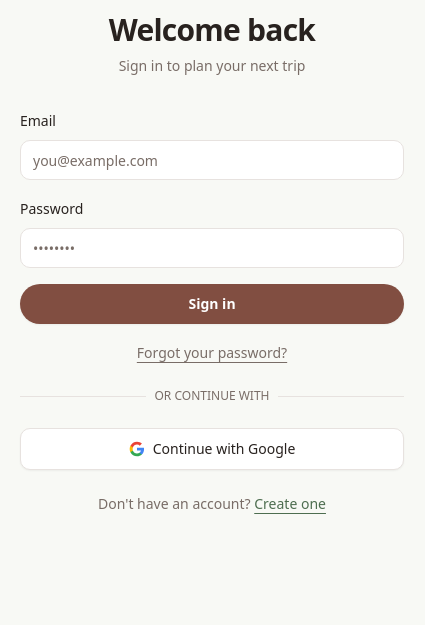
Test: LoginPage — Sign up mode › shows error when passwords do not match
Click the button "Create one".
click(290, 504)  # box left=254, top=494, right=326, bottom=514
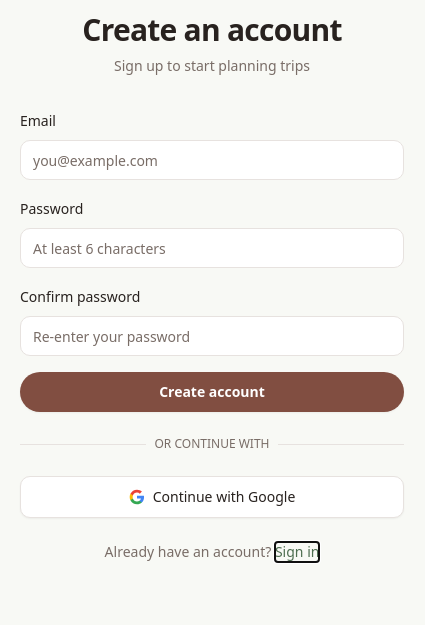
Type "new@test.com" into the field labelled "Email".
click(212, 160); type("new@test.com")  # box left=20, top=140, right=404, bottom=180
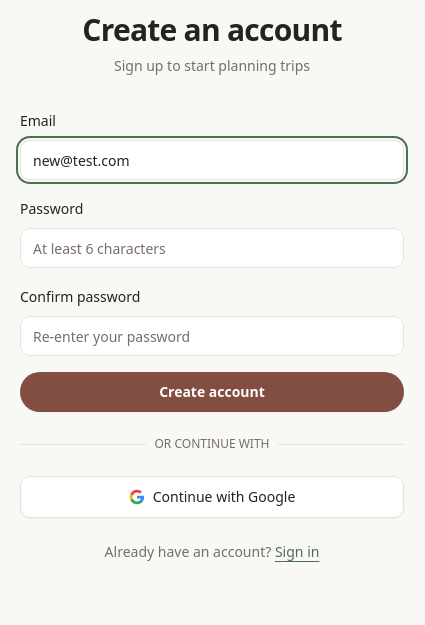
Type "password123" into the password field labelled "Password".
click(212, 248); type("password123")  # box left=20, top=228, right=404, bottom=268
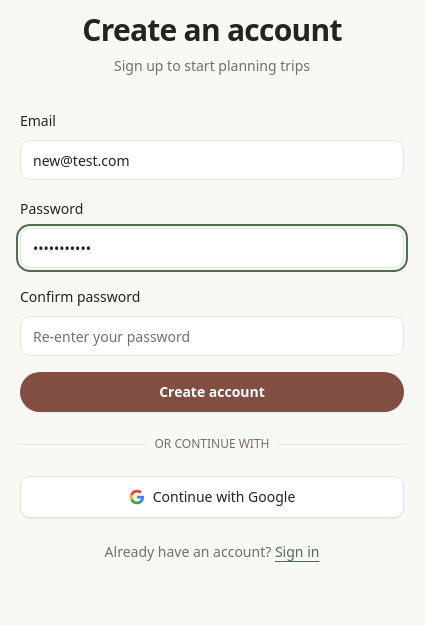
Type "different456" into the password field labelled "Confirm password".
click(212, 336); type("different456")  # box left=20, top=316, right=404, bottom=356
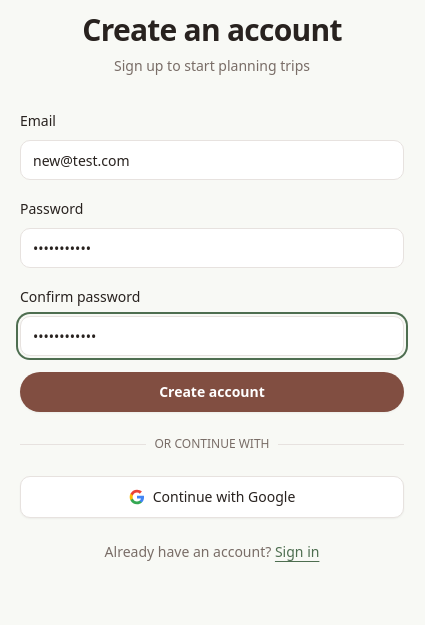
Click the button "Create account".
click(212, 392)  # box left=20, top=372, right=404, bottom=412
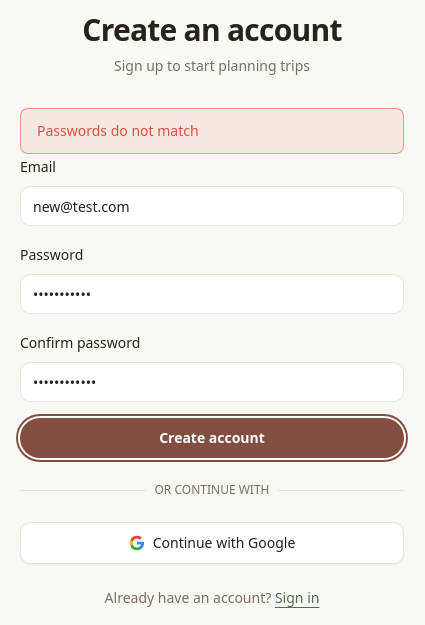
expect the text "Passwords do not match" is shown: met, box left=37, top=121, right=199, bottom=140
